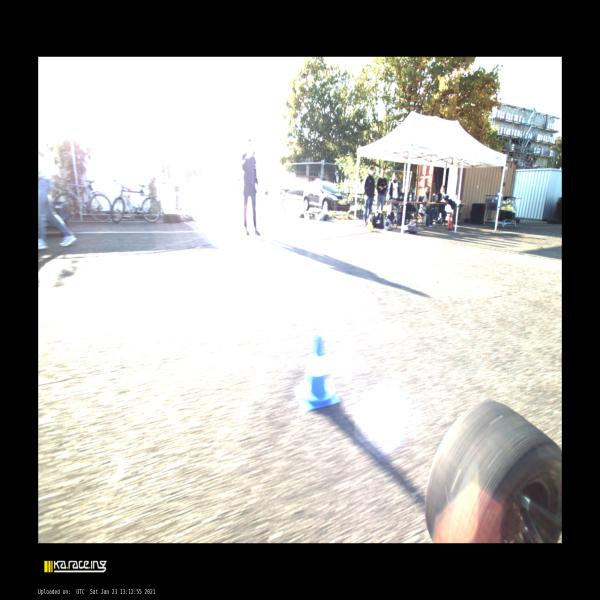blue_cone: (293, 328, 342, 411), (495, 194, 498, 202), (497, 190, 500, 196), (501, 192, 503, 200), (491, 198, 494, 202)
yellow_cone: (366, 214, 374, 230), (500, 201, 506, 210), (506, 200, 510, 210), (511, 201, 514, 210), (506, 201, 508, 205)
